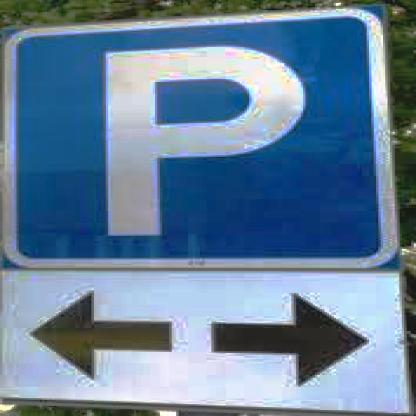Parking: (0, 31, 388, 259)
